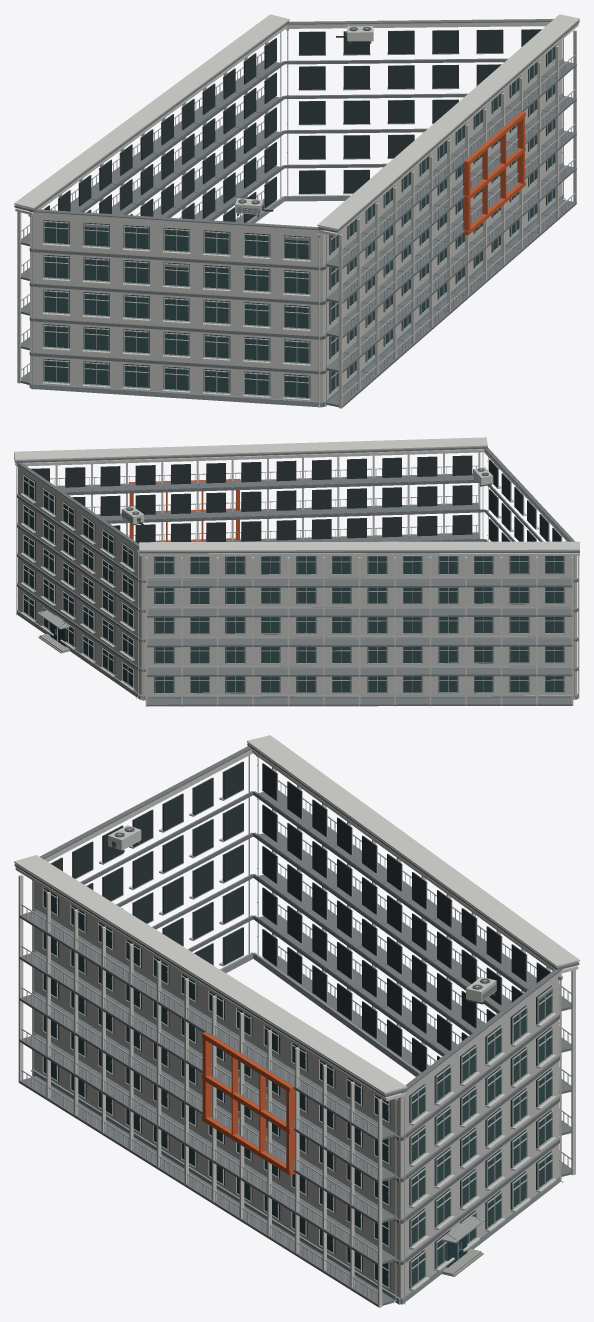
The model's file is njupt_k_dormitory_06.glb.
3 views of the same model, one above another, from view 1: azimuth 30°, elevation 25°; view 2: azimuth 150°, elevation 25°; view 3: azimuth 270°, elevation 25° (orthographic). The views are drawn at different scales.
Parts seen in each view (by area): view 1: Windows and facade details | K组团宿舍（模型序号6）, Architecture | K组团宿舍（模型序号6）, Roof services | K组团宿舍（模型序号6）, EXTERIOR::njupt_k_dormitory_06::rainwater and roof service d; view 2: Windows and facade details | K组团宿舍（模型序号6）, Architecture | K组团宿舍（模型序号6）, Roof services | K组团宿舍（模型序号6）, EXTERIOR::njupt_k_dormitory_06::rainwater and roof service d, EXTERIOR::njupt_k_dormitory_06::inferred entry doors canopy ; view 3: Windows and facade details | K组团宿舍（模型序号6）, Architecture | K组团宿舍（模型序号6）, Roof services | K组团宿舍（模型序号6）, EXTERIOR::njupt_k_dormitory_06::rainwater and roof service d, EXTERIOR::njupt_k_dormitory_06::inferred entry doors canopy .
Boxes of the visible parts, <box> form: Windows and facade details | K组团宿舍（模型序号6）: <box>20,29,576,407</box>; Architecture | K组团宿舍（模型序号6）: <box>17,22,576,408</box>; Roof services | K组团宿舍（模型序号6）: <box>14,14,579,236</box>; EXTERIOR::njupt_k_dormitory_06::rainwater and roof service d: <box>28,26,565,407</box>; Windows and facade details | K组团宿舍（模型序号6）: <box>16,452,579,706</box>; Architecture | K组团宿舍（模型序号6）: <box>16,449,578,706</box>; Roof services | K组团宿舍（模型序号6）: <box>14,437,579,556</box>; EXTERIOR::njupt_k_dormitory_06::rainwater and roof service d: <box>121,457,574,699</box>; EXTERIOR::njupt_k_dormitory_06::inferred entry doors canopy : <box>37,607,69,653</box>; Windows and facade details | K组团宿舍（模型序号6）: <box>19,755,571,1306</box>; Architecture | K组团宿舍（模型序号6）: <box>18,749,575,1307</box>; Roof services | K组团宿舍（模型序号6）: <box>14,735,579,1101</box>; EXTERIOR::njupt_k_dormitory_06::rainwater and roof service d: <box>31,755,563,1303</box>; EXTERIOR::njupt_k_dormitory_06::inferred entry doors canopy : <box>441,1213,485,1276</box>.
Bounding box in the file's own units: 67.1 × 19.48 × 44.85.
